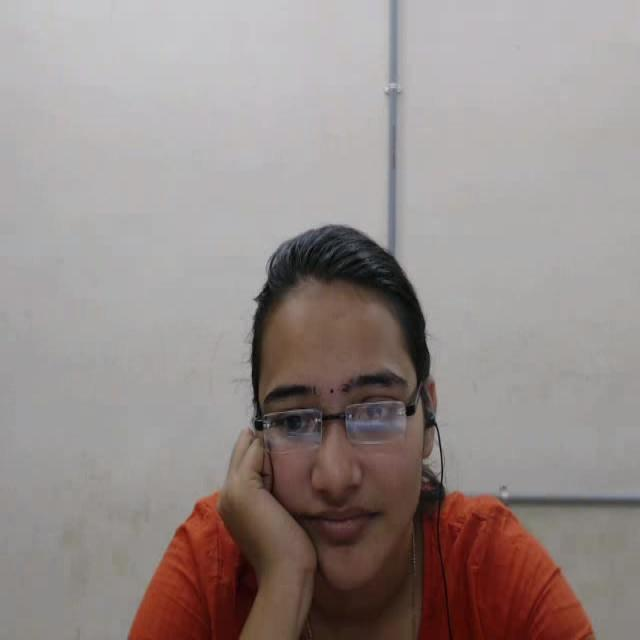Bored: (182, 210, 534, 640)
